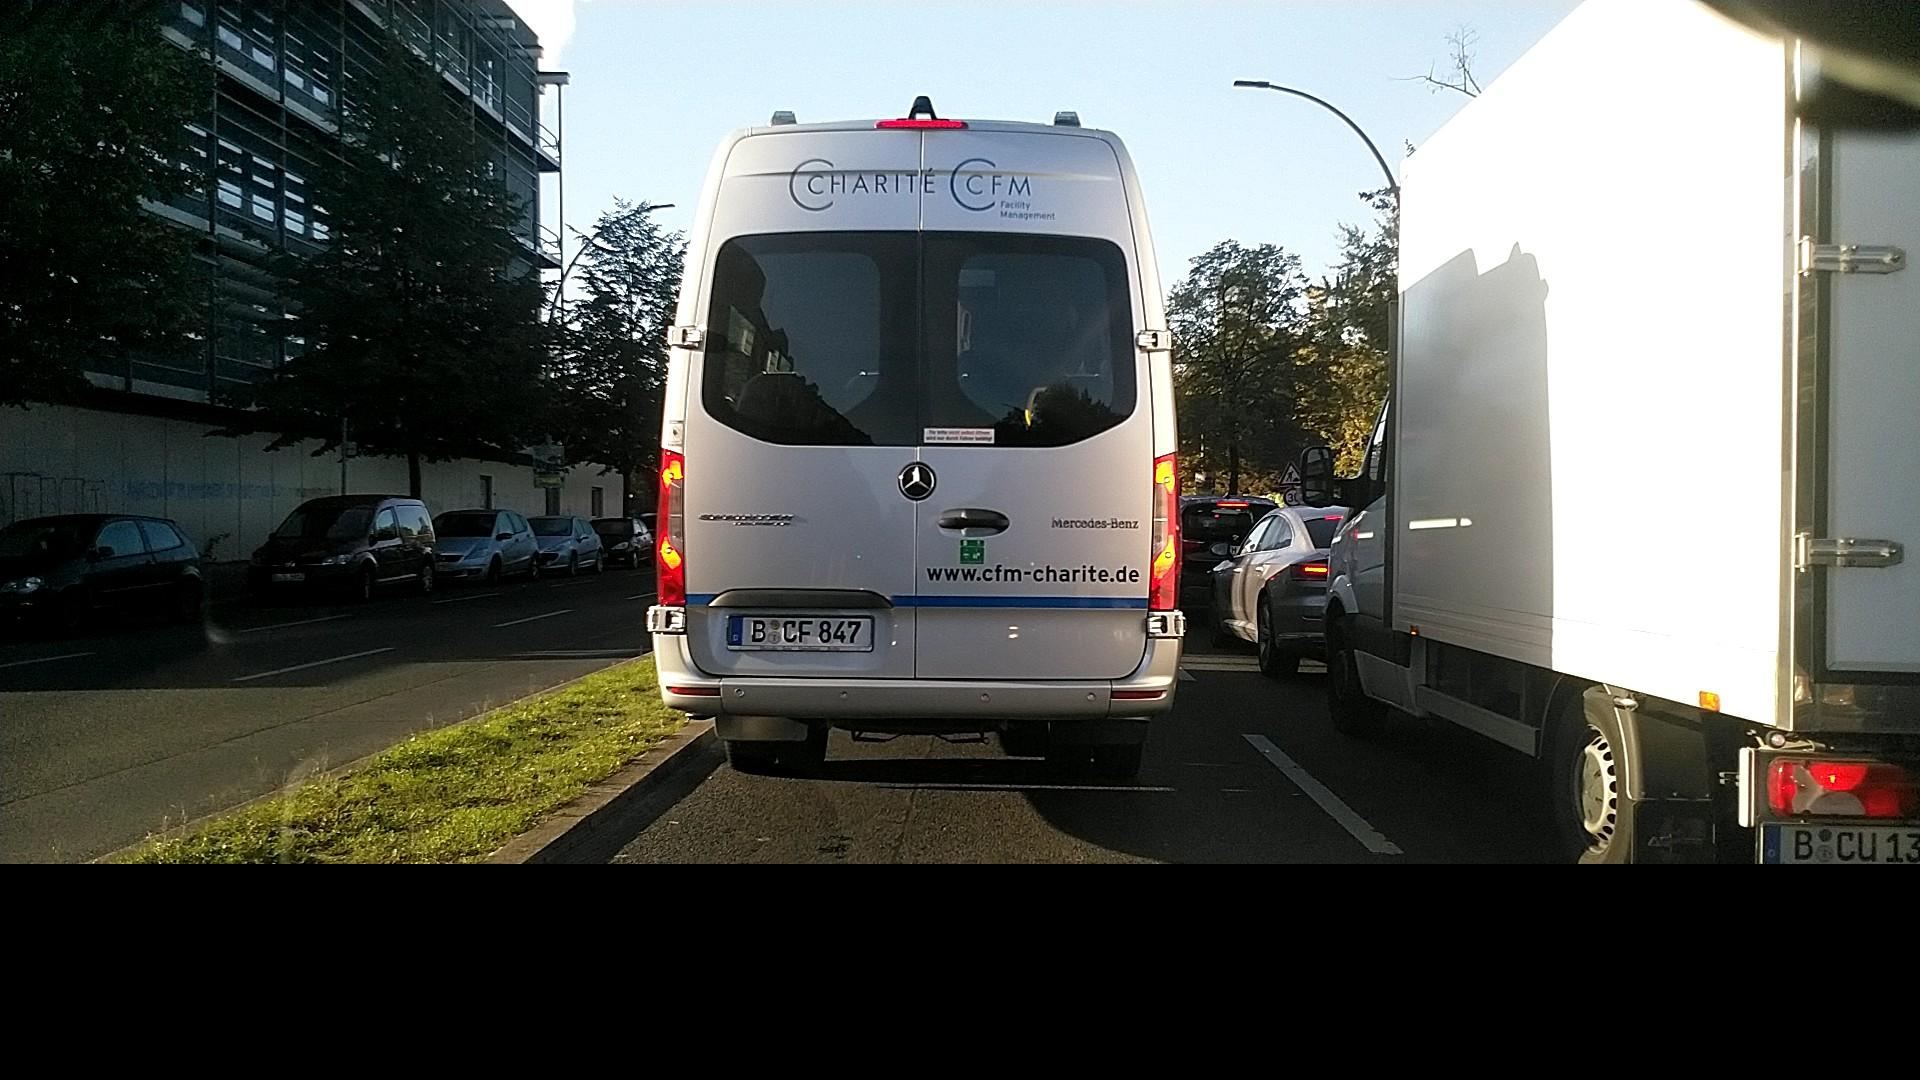Vehicle registration plate: (1764, 828, 1918, 868), (729, 615, 874, 651)
